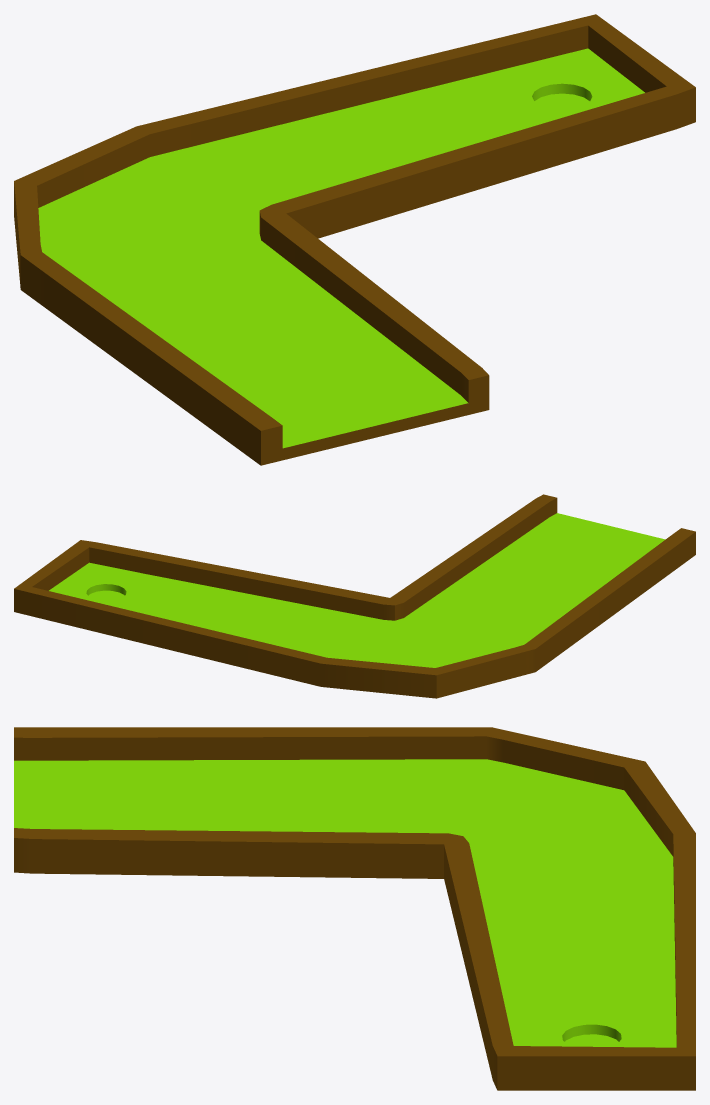
File: Hole2.fbx
The picture shows the model from 3 angles, top to bottom: view 1: azimuth 30°, elevation 25°; view 2: azimuth 150°, elevation 25°; view 3: azimuth 270°, elevation 25°; orthographic projection. The views are drawn at different scales.
Parts seen in each view (by area): view 1: pCube2; view 2: pCube2; view 3: pCube2.
Part boxes in pixels (left/top/right/bottom): pCube2: left=14, top=14, right=695, bottom=465; pCube2: left=14, top=494, right=695, bottom=698; pCube2: left=14, top=727, right=695, bottom=1090.
Size of the model in its own units: 59.51 by 2.92 by 52.13.
